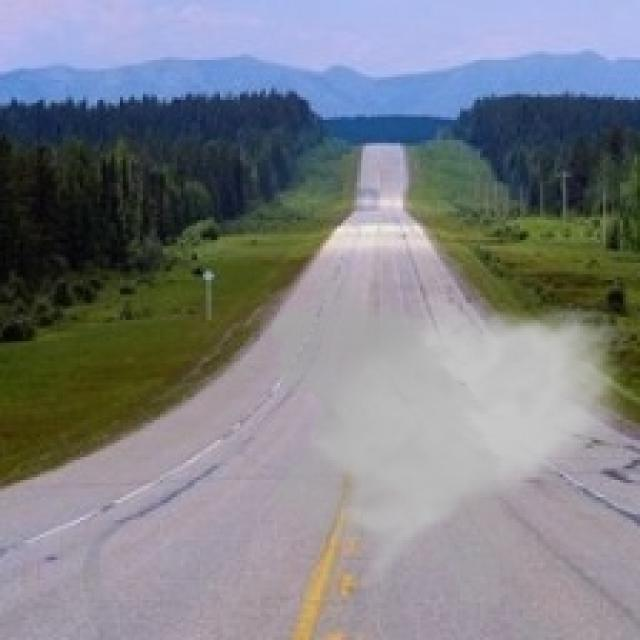smoke: (260, 266, 637, 623)
